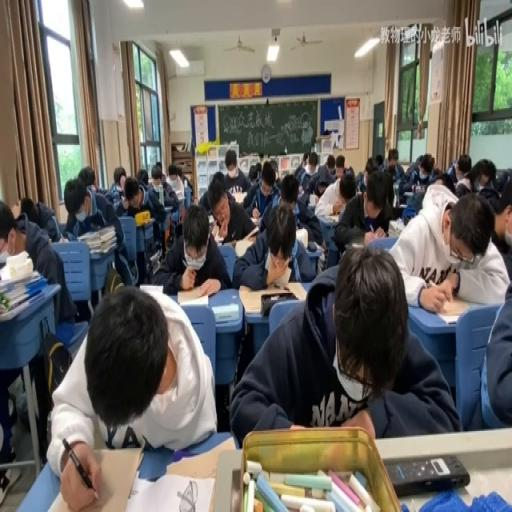calculator: (127, 469, 216, 512), (162, 434, 234, 480), (238, 280, 305, 314), (432, 298, 470, 322), (176, 288, 209, 304), (212, 302, 238, 322), (139, 283, 166, 296), (294, 224, 308, 248), (210, 220, 224, 244), (148, 248, 161, 272), (229, 189, 246, 205), (388, 218, 403, 236), (309, 239, 325, 253), (323, 212, 341, 222), (307, 194, 317, 208), (157, 183, 163, 205), (403, 189, 416, 199), (0, 250, 8, 266), (58, 233, 68, 243), (250, 216, 260, 225), (297, 183, 303, 195), (398, 202, 408, 209), (208, 215, 214, 226)
paper: (230, 244, 452, 442), (48, 283, 218, 511), (2, 199, 75, 468), (387, 184, 508, 308), (62, 173, 128, 293), (233, 196, 314, 289), (153, 202, 230, 294), (332, 168, 398, 257), (477, 286, 512, 429), (16, 195, 61, 243), (400, 150, 438, 200), (454, 158, 490, 199), (221, 146, 250, 194), (485, 171, 512, 222), (305, 152, 336, 196), (0, 202, 24, 257), (168, 164, 190, 223), (382, 151, 405, 183), (435, 168, 460, 195), (278, 172, 298, 205), (109, 164, 127, 199), (78, 166, 98, 196), (292, 154, 308, 184), (123, 180, 139, 208), (340, 181, 355, 202), (136, 166, 150, 186), (248, 164, 261, 184), (334, 155, 344, 179), (270, 156, 279, 180), (362, 158, 374, 176), (211, 170, 224, 184), (154, 161, 164, 179), (413, 154, 424, 169), (182, 174, 191, 189), (344, 163, 354, 175), (374, 154, 382, 168), (168, 174, 178, 184), (160, 175, 166, 186), (432, 164, 438, 174)
person: (386, 454, 470, 496), (346, 234, 366, 248)
